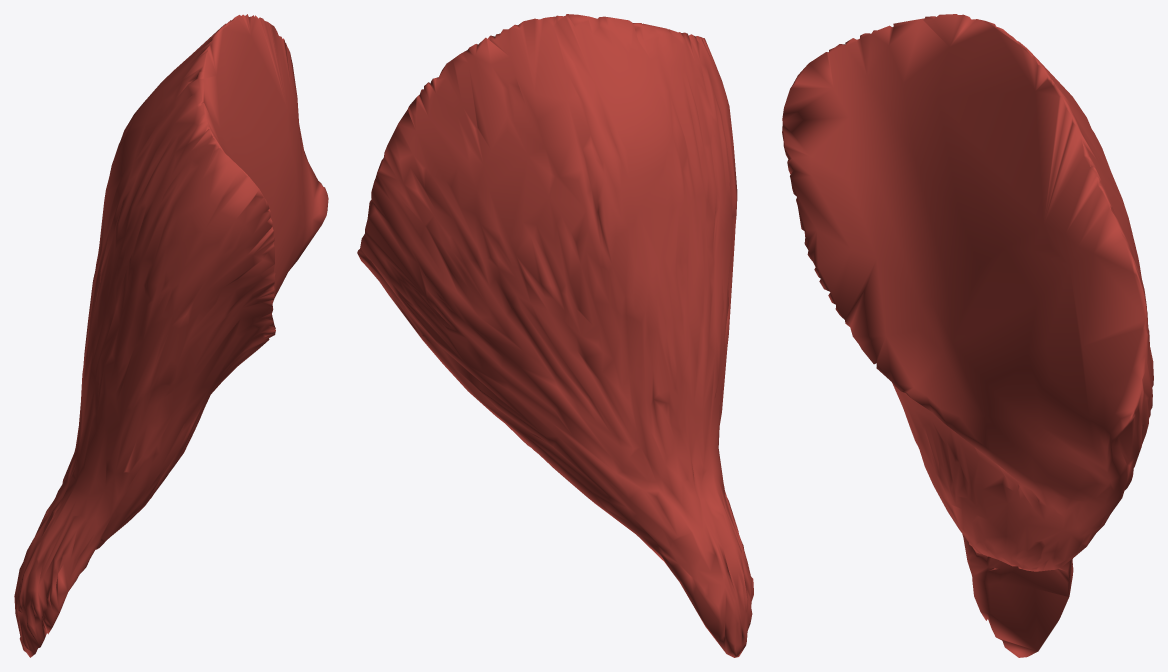
The model's file is musculos-gluteus-minimus-muscle-r.glb.
The picture shows the model from 3 angles, left to right: view 1: azimuth 30°, elevation 25°; view 2: azimuth 150°, elevation 25°; view 3: azimuth 270°, elevation 25°; orthographic projection. The views are drawn at different scales.
Visible parts, largest first — view 1: Gluteus minimus muscle.r; view 2: Gluteus minimus muscle.r; view 3: Gluteus minimus muscle.r.
Part boxes in pixels (left/top/right/bottom): Gluteus minimus muscle.r: left=14, top=14, right=328, bottom=657; Gluteus minimus muscle.r: left=357, top=14, right=753, bottom=657; Gluteus minimus muscle.r: left=782, top=14, right=1153, bottom=657.
Bounding box in the file's own units: 0.0828 × 0.1345 × 0.0608.
